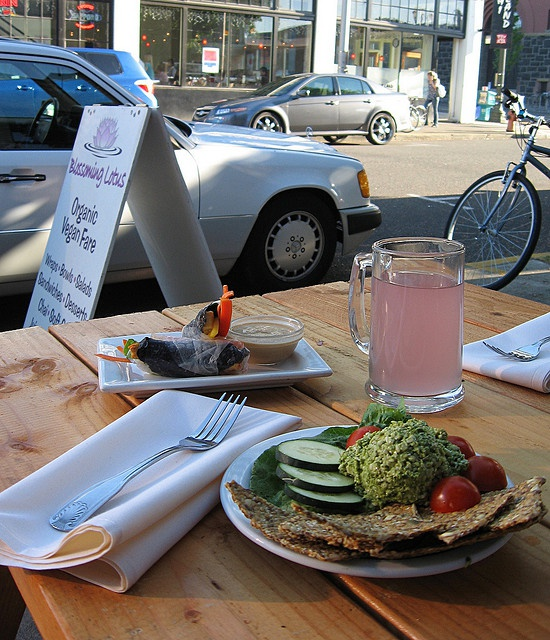non-vehicle: (442, 82, 549, 289), (401, 104, 427, 132)
